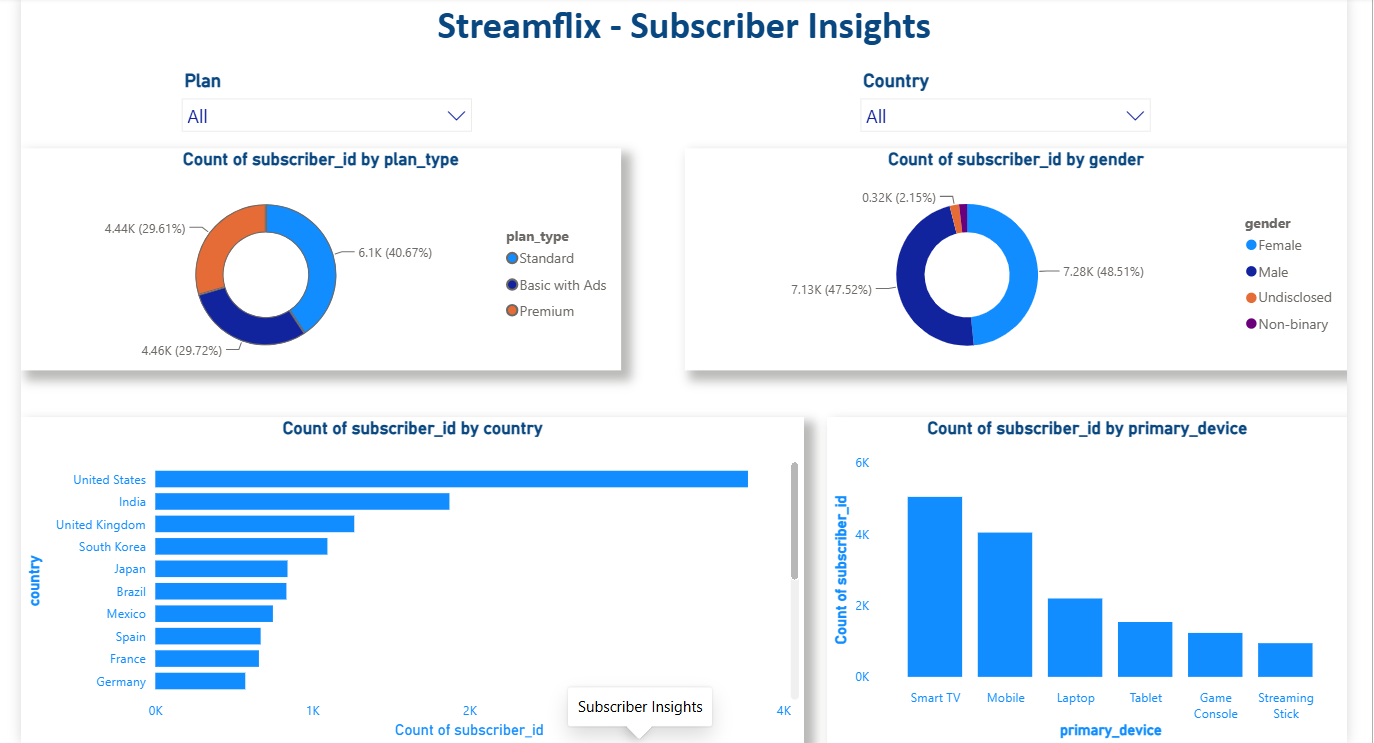

The page's visual inventory and layout, read from the dashboard file:
{"tool":"powerbi","page":{"name":"Subscriber Insights","canvas":[1280,720],"ordinal":2},"visuals":[{"type":"donutChart","fields":{"Category":["subscribers.plan_type"],"Y":["CountNonNull(subscribers.subscriber_id)"]},"box":[0,145.5,579.1,214.1],"z":0},{"type":"donutChart","fields":{"Y":["CountNonNull(subscribers.subscriber_id)"],"Category":["subscribers.gender"]},"box":[640.8,145.5,639.5,214.1],"z":1000},{"type":"clusteredBarChart","fields":{"Category":["subscribers.country"],"Y":["CountNonNull(subscribers.subscriber_id)"]},"box":[0,404.8,756.1,315.6],"z":2000},{"type":"clusteredColumnChart","fields":{"Category":["subscribers.primary_device"],"Y":["Count(subscribers.subscriber_id)"]},"box":[778,404.8,502.2,315.6],"z":3000},{"type":"slicer","fields":{"Values":["subscribers.plan_type"]},"box":[145,65,300,70],"z":4000},{"type":"slicer","fields":{"Values":["subscribers.country"]},"box":[800,65,300,70],"z":5000},{"type":"textbox","box":[108.4,0,279.9,57.6],"z":6000},{"type":"textbox","box":[0,0,1280.3,57.6],"z":7000}]}

Visuals, with their boxes on the page's 1280x720 design canvas (x1, y1, x2, y2). These are canvas units, not pixel positions in the 1374x743 screenshot, which may show the page scaled, cropped or inside an application window:
donutChart - subscribers.plan_type x CountNonNull(subscribers.subscriber_id): (0, 146, 579, 360)
donutChart - CountNonNull(subscribers.subscriber_id) x subscribers.gender: (641, 146, 1280, 360)
clusteredBarChart - subscribers.country x CountNonNull(subscribers.subscriber_id): (0, 405, 756, 720)
clusteredColumnChart - subscribers.primary_device x Count(subscribers.subscriber_id): (778, 405, 1280, 720)
slicer - subscribers.plan_type: (145, 65, 445, 135)
slicer - subscribers.country: (800, 65, 1100, 135)
textbox: (108, 0, 388, 58)
textbox: (0, 0, 1280, 58)
